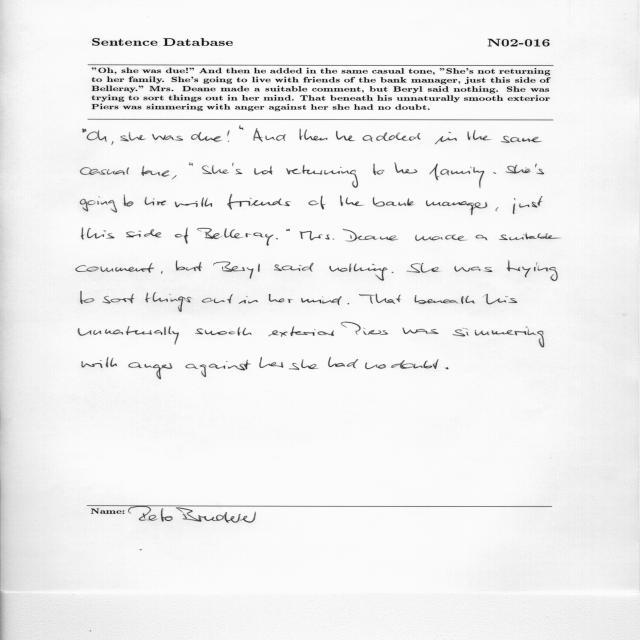word: (78, 326, 179, 345), (453, 327, 544, 348), (286, 165, 358, 188), (430, 163, 485, 188), (197, 228, 274, 245), (185, 360, 251, 377), (329, 263, 388, 281), (227, 194, 291, 210), (507, 261, 558, 281), (145, 292, 191, 312), (426, 200, 487, 215), (213, 262, 260, 279), (76, 263, 154, 273), (129, 362, 173, 379), (268, 326, 334, 337), (343, 229, 398, 242), (80, 196, 117, 213), (341, 322, 388, 335), (363, 132, 421, 142), (415, 295, 475, 304), (513, 196, 542, 214), (195, 327, 252, 336), (391, 359, 439, 369), (254, 128, 286, 142), (499, 233, 561, 240), (359, 294, 401, 304), (373, 197, 414, 207), (175, 197, 212, 208), (81, 167, 130, 175), (82, 357, 117, 368), (81, 228, 115, 239), (415, 234, 468, 241), (301, 296, 342, 305), (274, 263, 314, 272), (83, 128, 107, 142), (300, 129, 328, 141), (407, 263, 440, 273), (485, 294, 518, 304), (328, 357, 358, 368), (103, 294, 135, 304), (289, 359, 318, 370), (126, 229, 161, 238), (300, 231, 335, 240), (191, 132, 222, 142), (142, 166, 170, 177), (501, 136, 542, 143), (202, 294, 233, 303), (340, 195, 365, 206), (259, 357, 284, 368), (435, 132, 457, 144), (176, 261, 202, 271), (403, 327, 439, 334), (202, 165, 229, 174), (468, 130, 492, 140), (309, 196, 326, 210), (395, 163, 418, 173), (455, 266, 493, 272), (506, 165, 531, 174), (152, 134, 183, 141), (269, 294, 293, 303), (175, 228, 188, 244), (336, 131, 355, 141), (145, 197, 166, 206), (81, 291, 95, 304), (254, 166, 273, 175), (129, 132, 146, 141), (239, 296, 258, 304), (365, 362, 386, 369), (373, 164, 384, 175), (124, 195, 134, 207), (233, 163, 243, 174), (535, 164, 544, 175), (476, 235, 488, 241), (120, 136, 129, 142), (227, 130, 230, 142), (239, 126, 244, 130), (172, 176, 177, 180), (189, 163, 193, 166), (496, 208, 499, 212), (112, 141, 114, 145), (286, 229, 290, 231), (493, 172, 496, 174), (161, 271, 163, 274), (445, 367, 448, 369), (276, 238, 278, 239), (392, 272, 394, 273), (348, 303, 350, 304)
